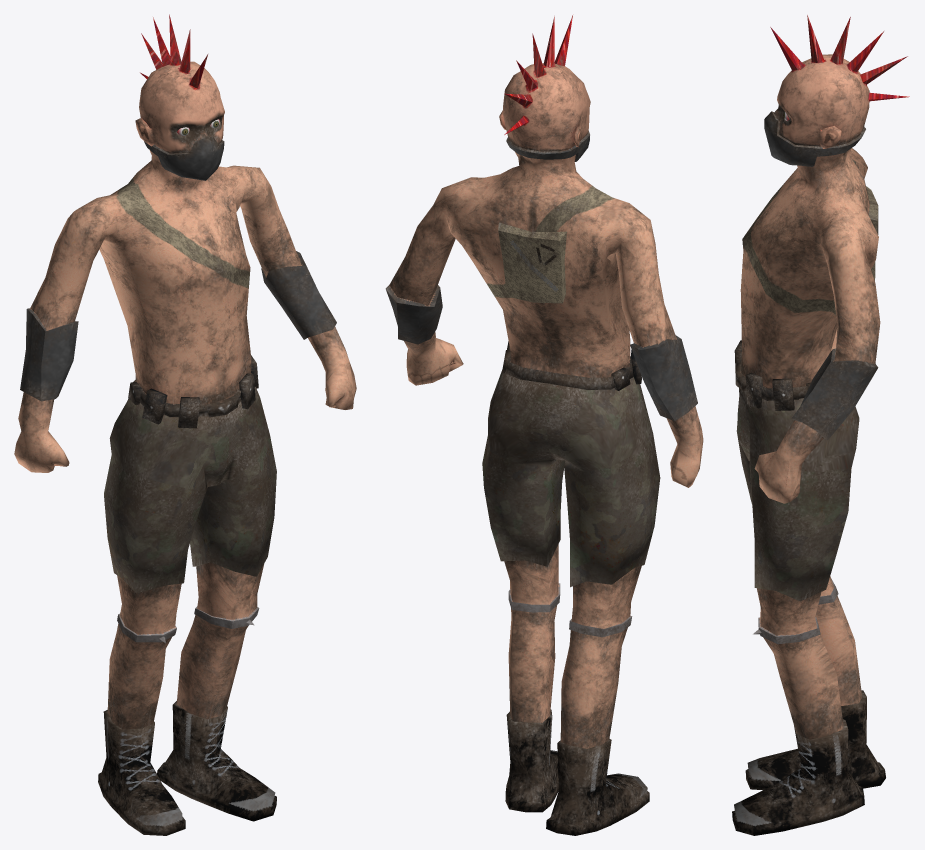
File: Anim_disparar_pistola_npc2.0016.obj
3 views of the same model, side by side, from view 1: azimuth 30°, elevation 25°; view 2: azimuth 150°, elevation 25°; view 3: azimuth 270°, elevation 25° (orthographic). The views are drawn at different scales.
Parts seen in each view (by area): view 1: polySurface1; view 2: polySurface1; view 3: polySurface1.
Part boxes in pixels (x1,y1,x2,y2): polySurface1: (14, 14, 356, 835); polySurface1: (385, 15, 703, 835); polySurface1: (732, 15, 909, 835).
Bounding box in the file's own units: 4.31 × 10.13 × 2.07.
